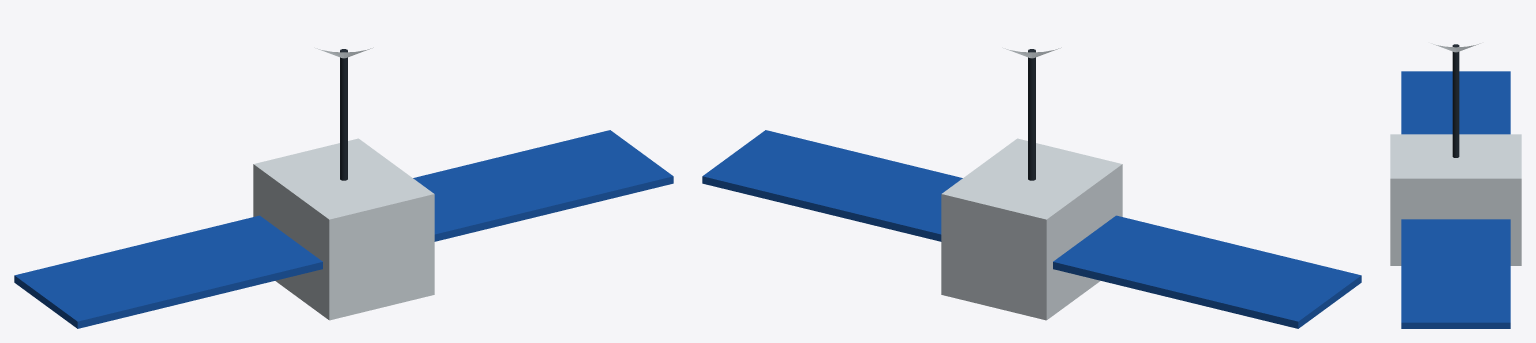
File: satellite.glb
The picture shows the model from 3 angles, left to right: view 1: azimuth 30°, elevation 25°; view 2: azimuth 150°, elevation 25°; view 3: azimuth 270°, elevation 25°; orthographic projection. The views are drawn at different scales.
Size of the model in its own units: 6.8 by 2.69 by 1.5.
